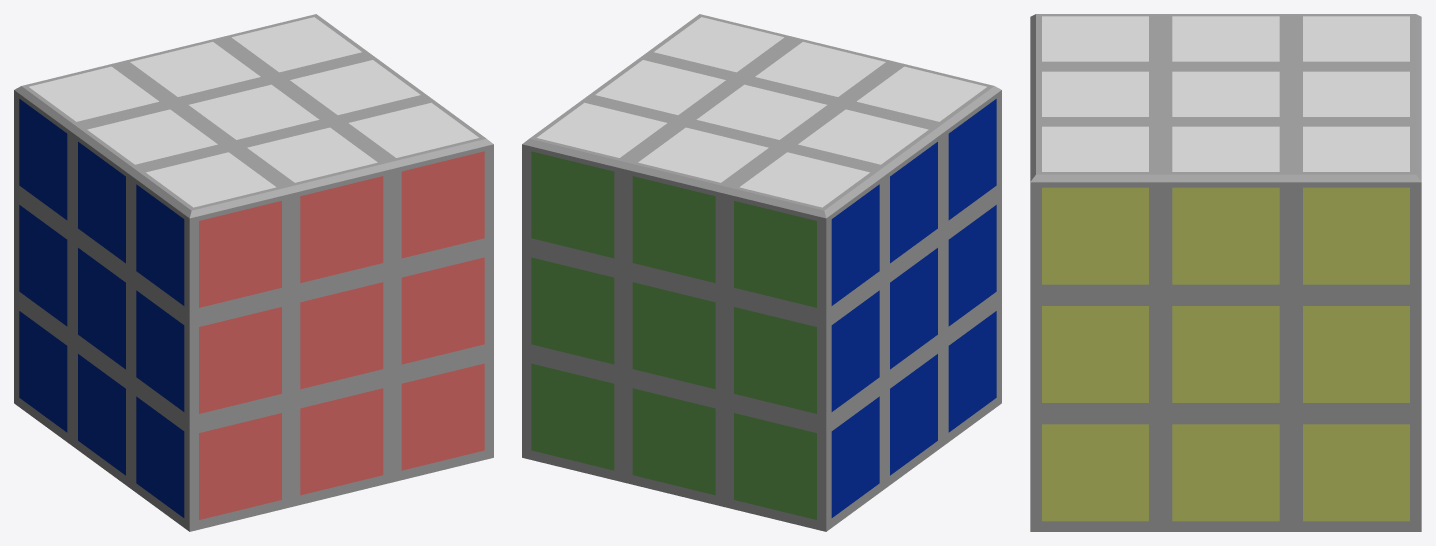
File: Rubik_Cube_01.fbx
3 views of the same model, side by side, from view 1: azimuth 30°, elevation 25°; view 2: azimuth 150°, elevation 25°; view 3: azimuth 270°, elevation 25° (orthographic). The views are drawn at different scales.
Visible parts, largest first — view 1: Rubik_Cube_01; view 2: Rubik_Cube_01; view 3: Rubik_Cube_01.
Boxes of the visible parts, left/top/right/bottom form: Rubik_Cube_01: left=14, top=14, right=493, bottom=531; Rubik_Cube_01: left=522, top=14, right=1001, bottom=531; Rubik_Cube_01: left=1030, top=14, right=1421, bottom=531.
Size of the model in its own units: 1 by 1 by 1.
